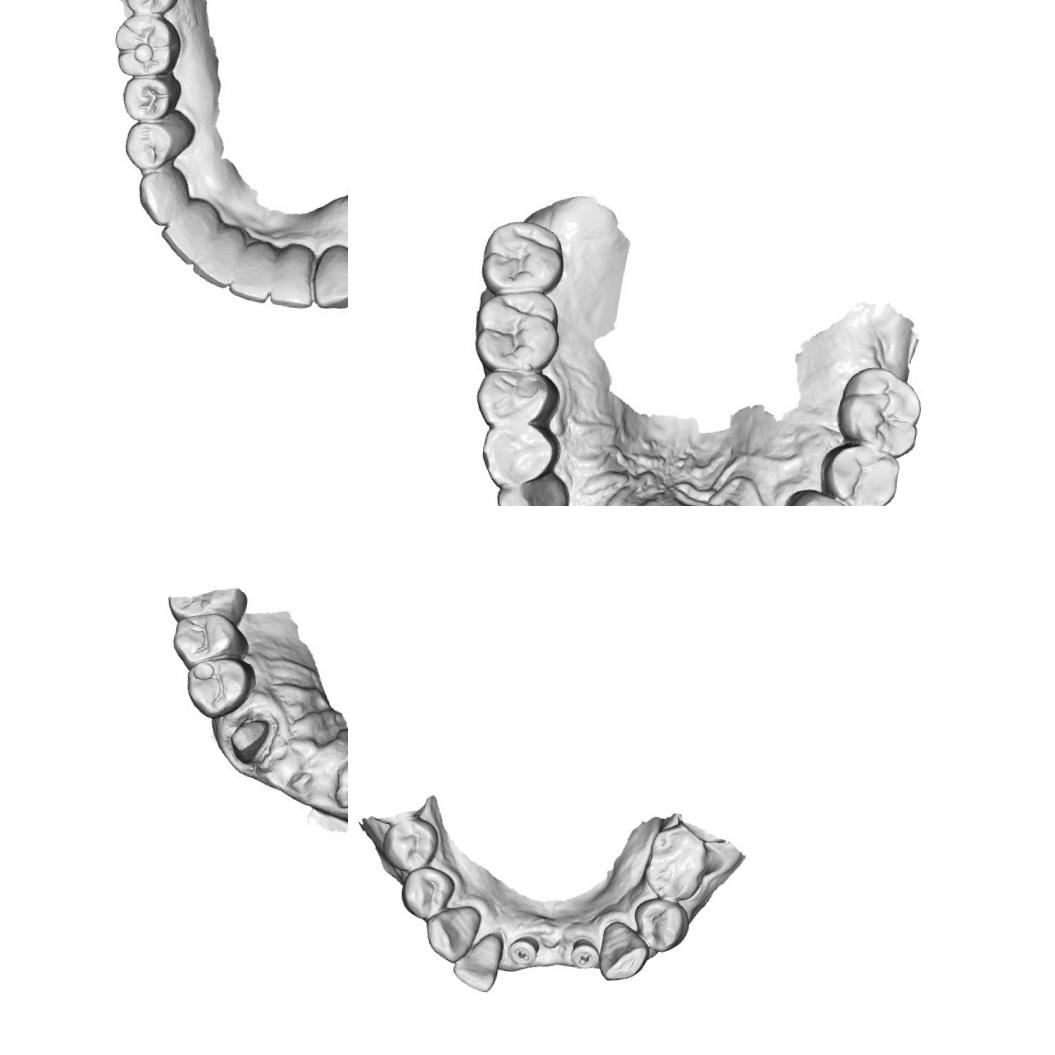canine: (420, 900, 483, 967), (132, 162, 193, 228), (595, 917, 653, 986), (309, 239, 348, 318), (492, 468, 567, 506)
crown: (226, 713, 274, 762)
implant_minus: (504, 933, 541, 971), (566, 935, 602, 972)
incisor: (157, 195, 228, 270), (449, 928, 506, 996), (226, 235, 279, 308), (266, 240, 320, 311), (188, 222, 242, 292)
molar: (470, 288, 561, 373), (844, 368, 925, 457), (640, 820, 714, 906), (482, 218, 562, 290), (109, 11, 184, 82), (115, 0, 186, 20)
premolar: (474, 418, 563, 492), (474, 360, 558, 432), (168, 608, 254, 676), (184, 652, 258, 722), (827, 441, 903, 506), (378, 813, 442, 876), (628, 894, 692, 956), (396, 862, 460, 924), (122, 117, 177, 174), (120, 72, 178, 124), (788, 490, 861, 506)
